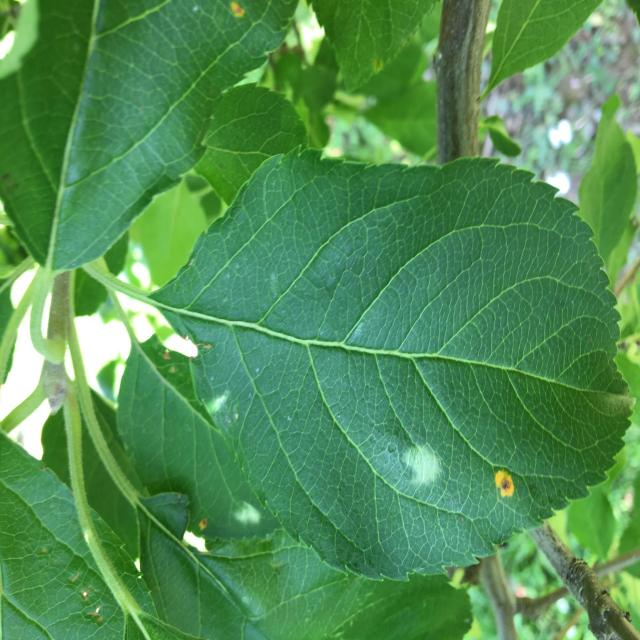Rust: (473, 444, 520, 508), (192, 509, 224, 541), (224, 1, 248, 26)
